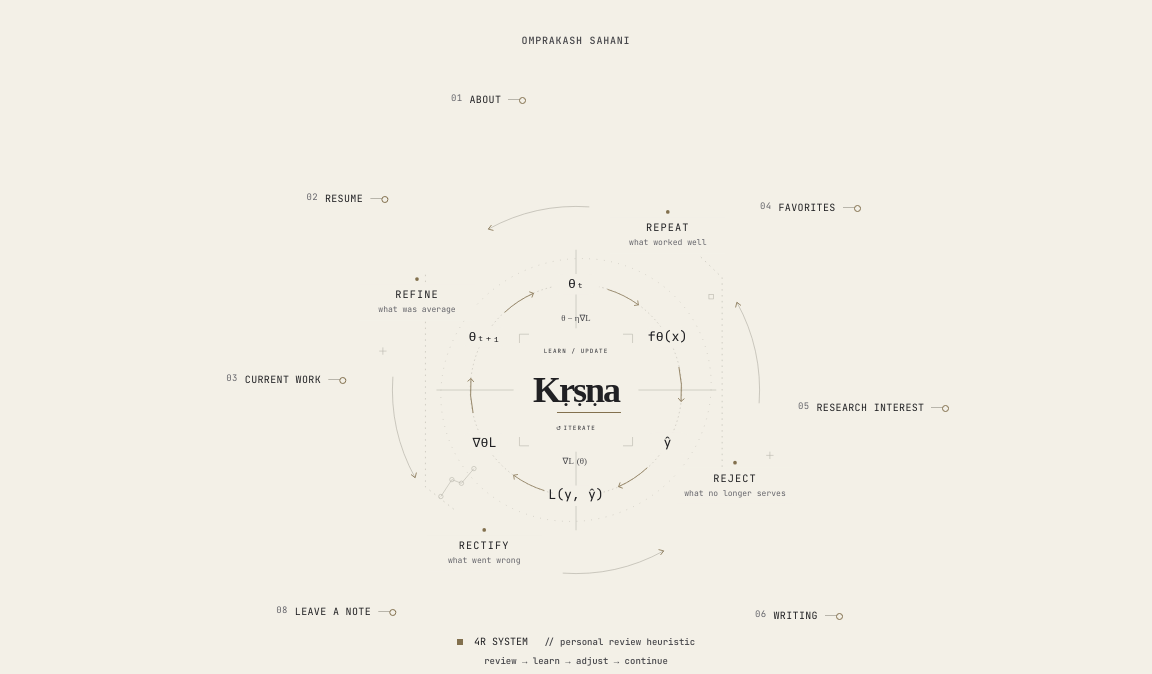
Test case: clears both fields after a successful submission
Click the button "08 Leave a note" at (336, 611), box [276,589,396,633]
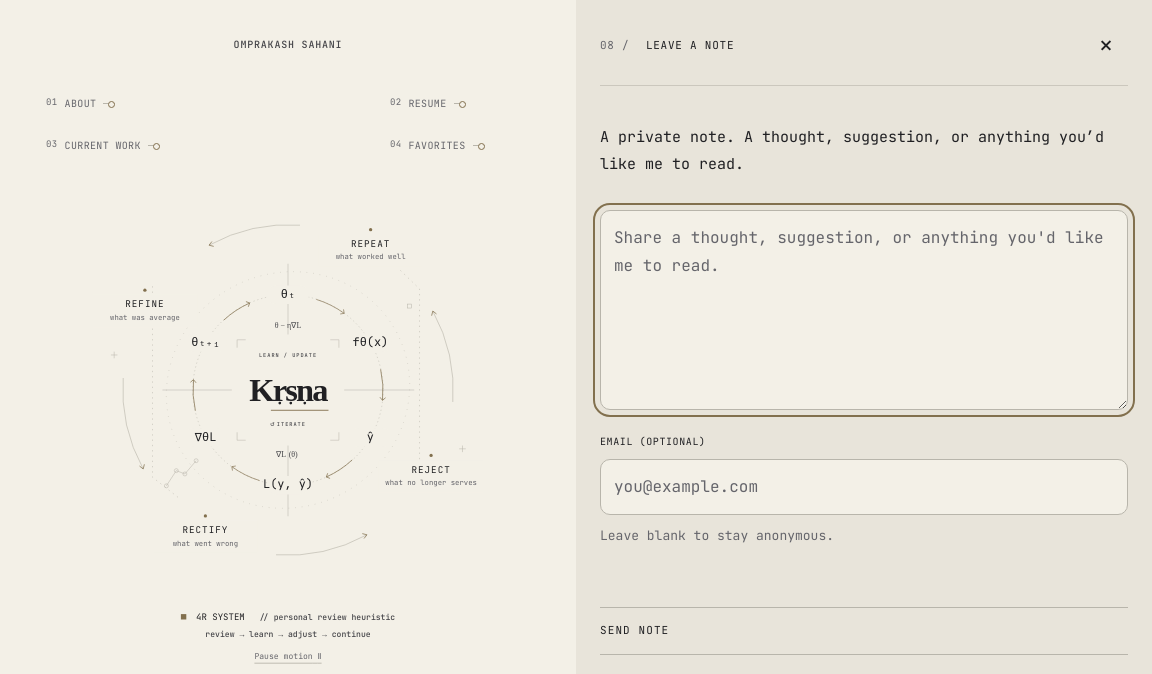
Replace the text in the text box named "Your note" with "Please keep this draft." at (864, 310), box [600,210,1128,410]
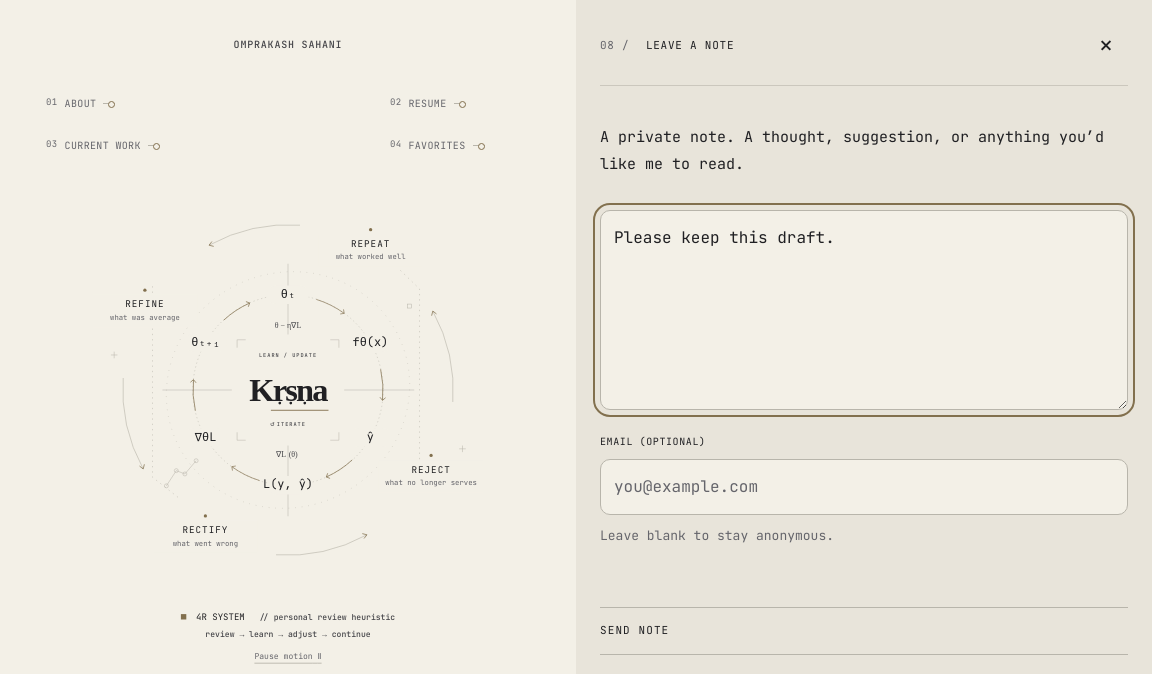
Type "visitor@example.test" into the field labelled "EMAIL (OPTIONAL)" at (864, 487), box [600,459,1128,515]
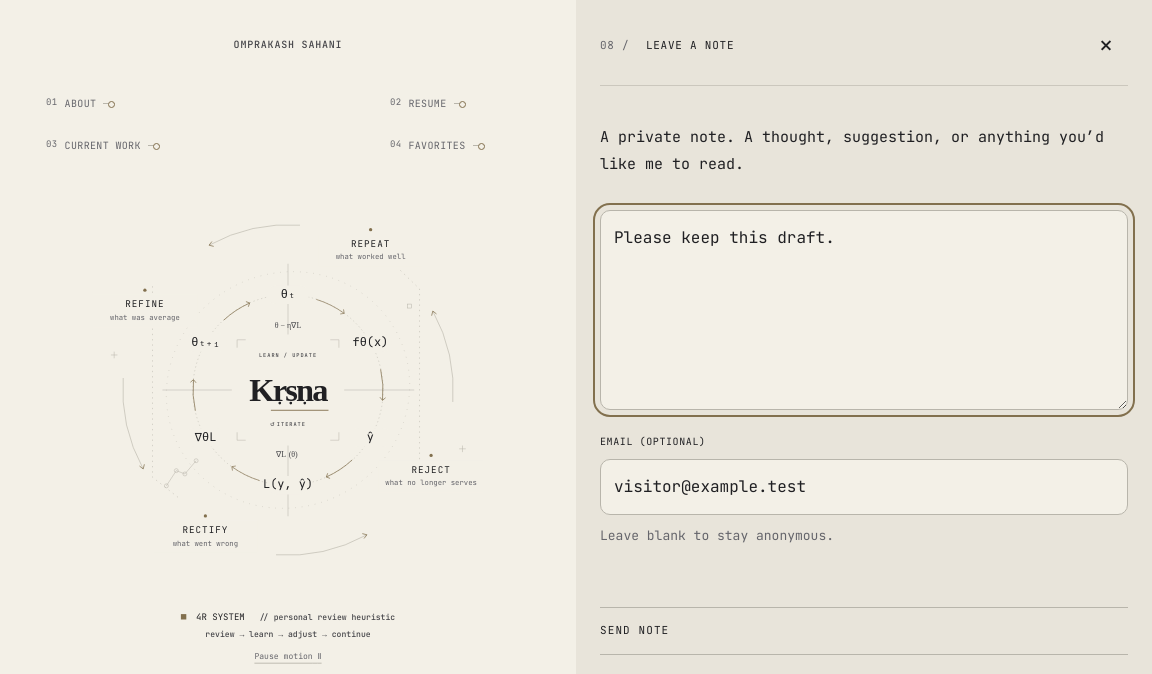
Click the button "SEND NOTE" at (635, 630), box [600,607,1128,655]
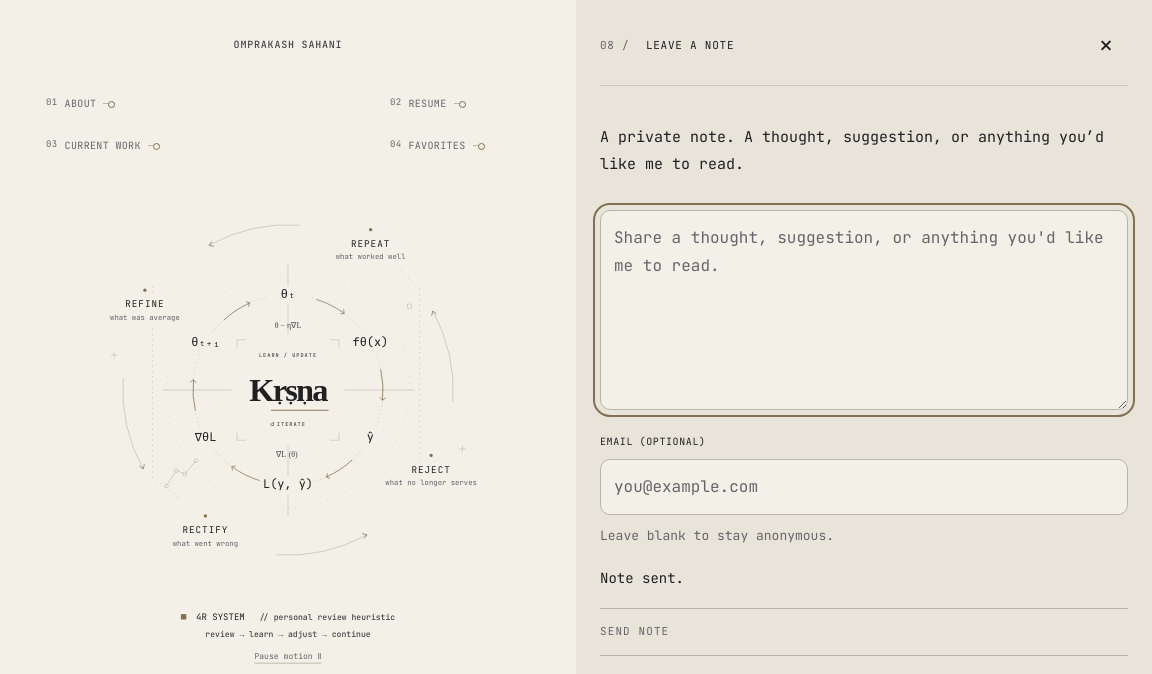
Expected: the message reads "Note sent.", [600,569,684,587]
Expected: the text box named "Your note" is empty, [600,210,1128,410]
Expected: the field labelled "EMAIL (OPTIONAL)" is empty, [600,459,1128,515]
